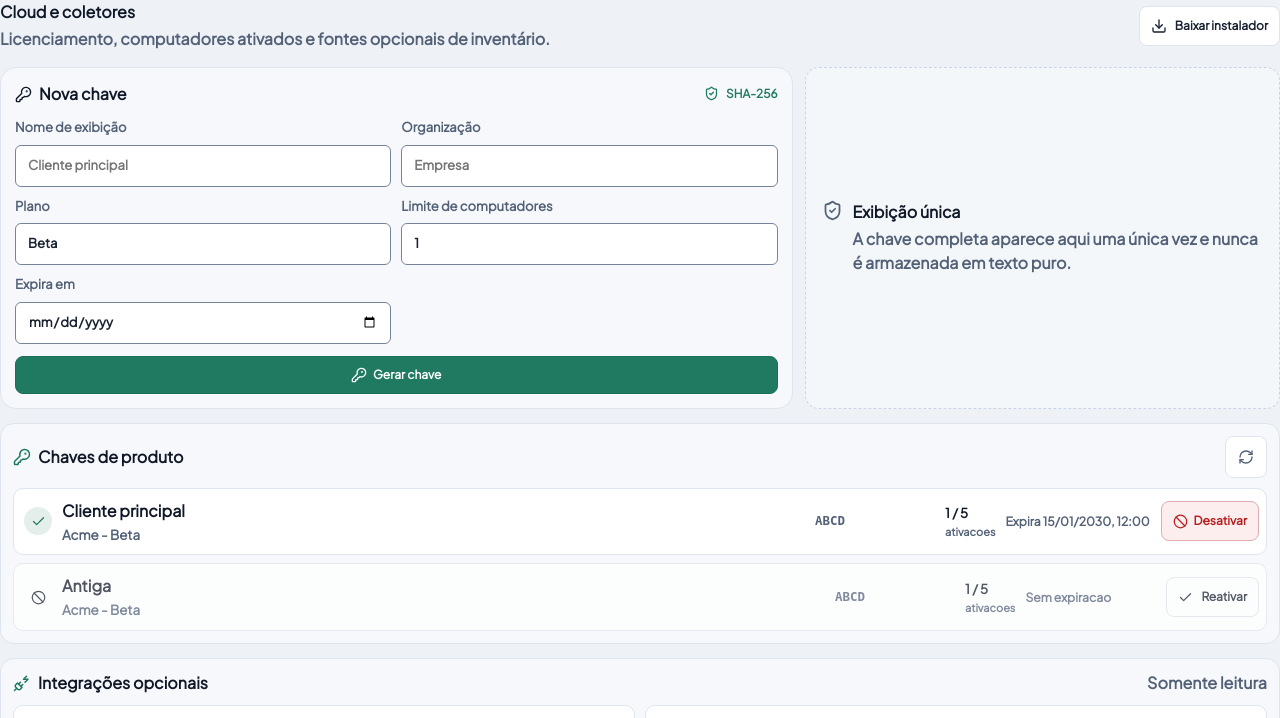
Scenario: CloudProductAdminPanel - status e ativacoes › expande a chave, lista computadores e recolhe ao clicar de novo
Expected: the text "Cliente principal" is shown, [62,500,185,520]
Step 1. Click the button "Cliente principal" → (123,510), box [21,496,1153,548]
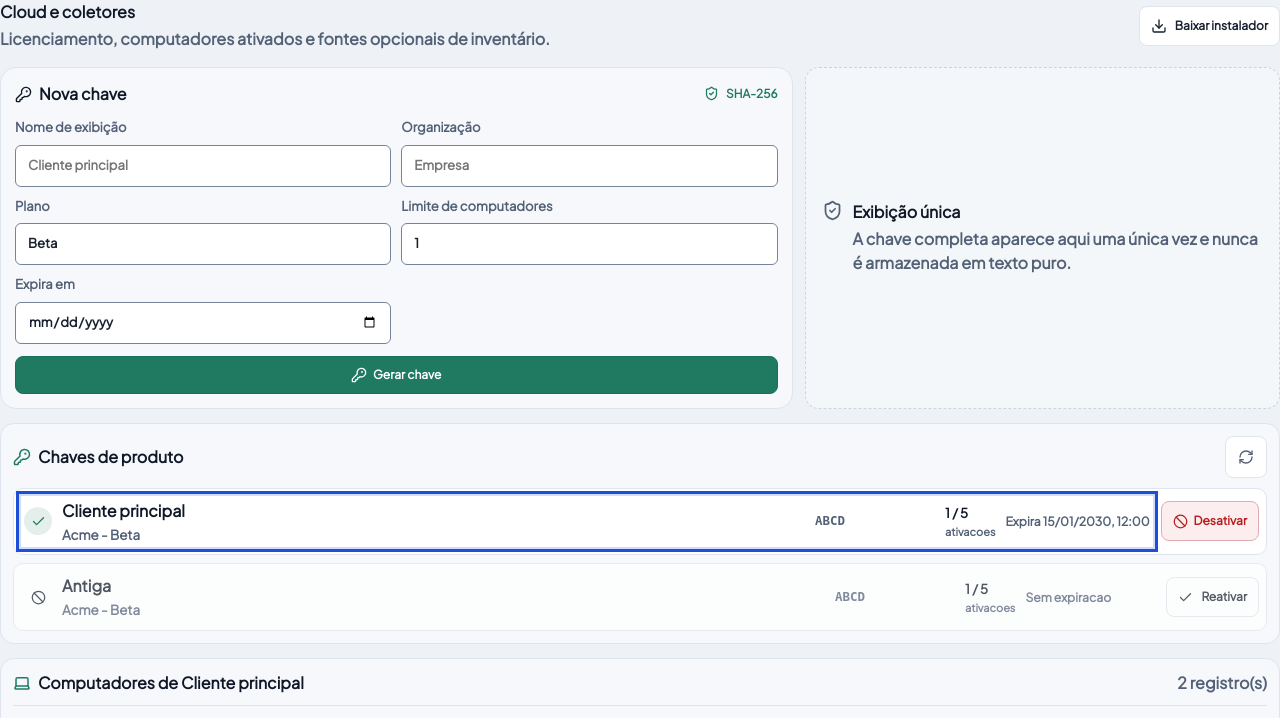
Now the text "Computadores de Cliente principal" is shown, box [38,672,304,696]
Now the text "2 registro(s)" is shown, box [1177,672,1267,696]
Step 2. Click the button "Cliente principal" → (123,510), box [21,496,1153,548]
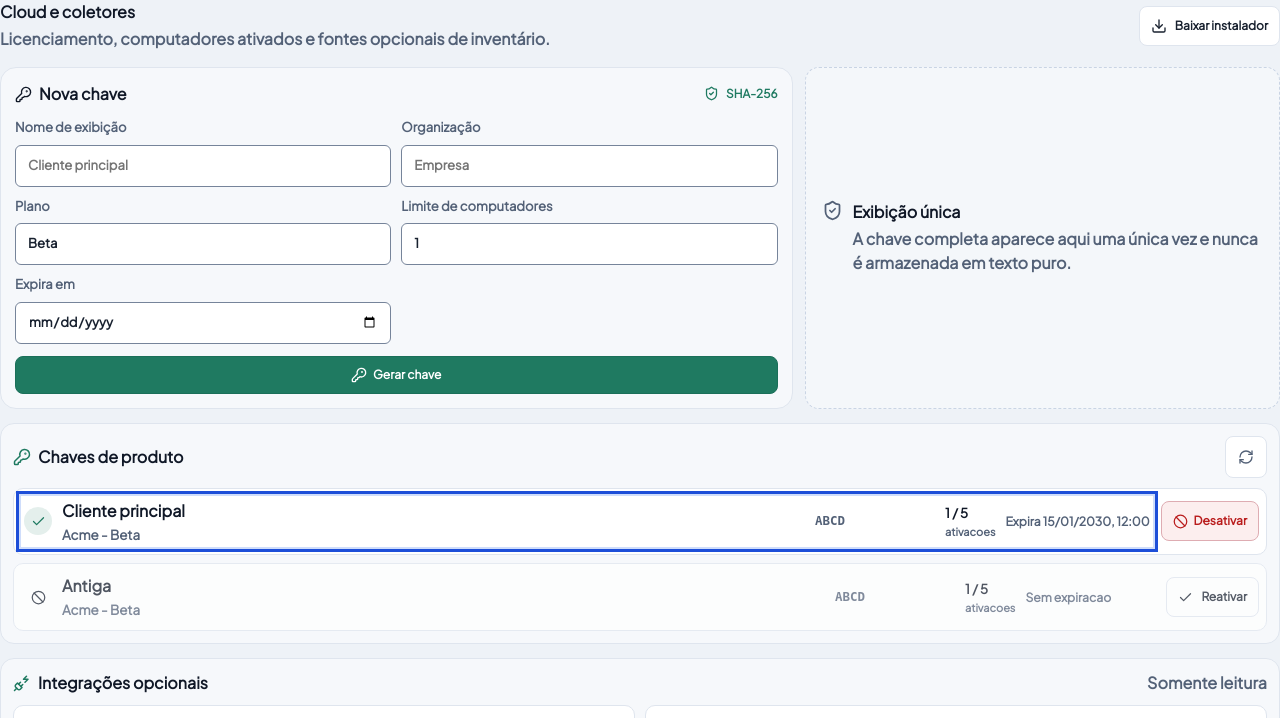
Now the text "Computadores de Cliente principal" is gone
